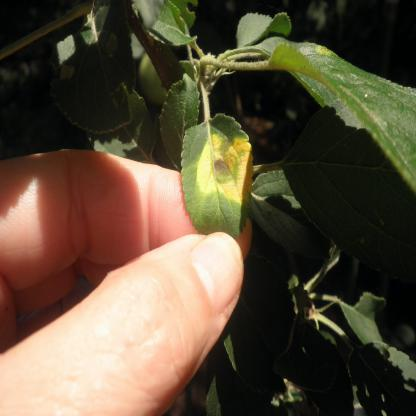apple rust leaf: (177, 113, 257, 240)
